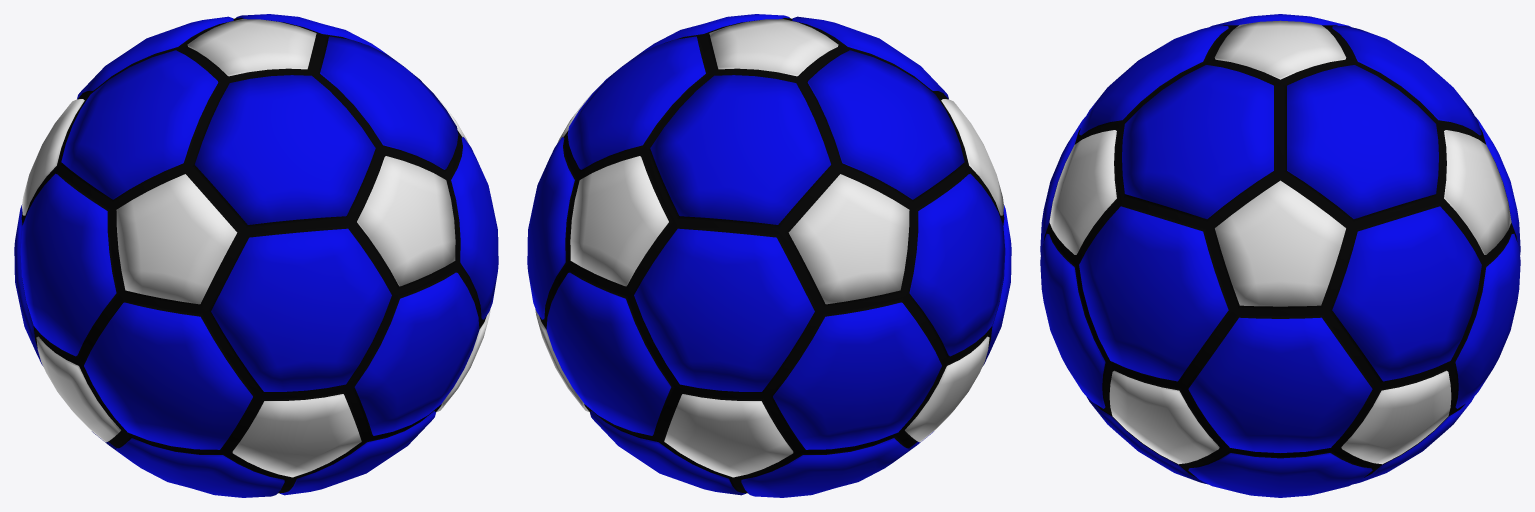
Rendered from uploads_files_2499648_FootballOnGrass.fbx.
3 renders of one model, left to right at view 1: azimuth 30°, elevation 25°; view 2: azimuth 150°, elevation 25°; view 3: azimuth 270°, elevation 25°, orthographic.
Parts seen in each view (by area): view 1: Football; view 2: Football; view 3: Football.
Boxes of the visible parts, x1=… form: Football: x1=14, y1=14, x2=498, y2=497; Football: x1=527, y1=14, x2=1011, y2=497; Football: x1=1040, y1=14, x2=1520, y2=497.
Size of what is drawn, in the model's own units: 172 by 171 by 170.
